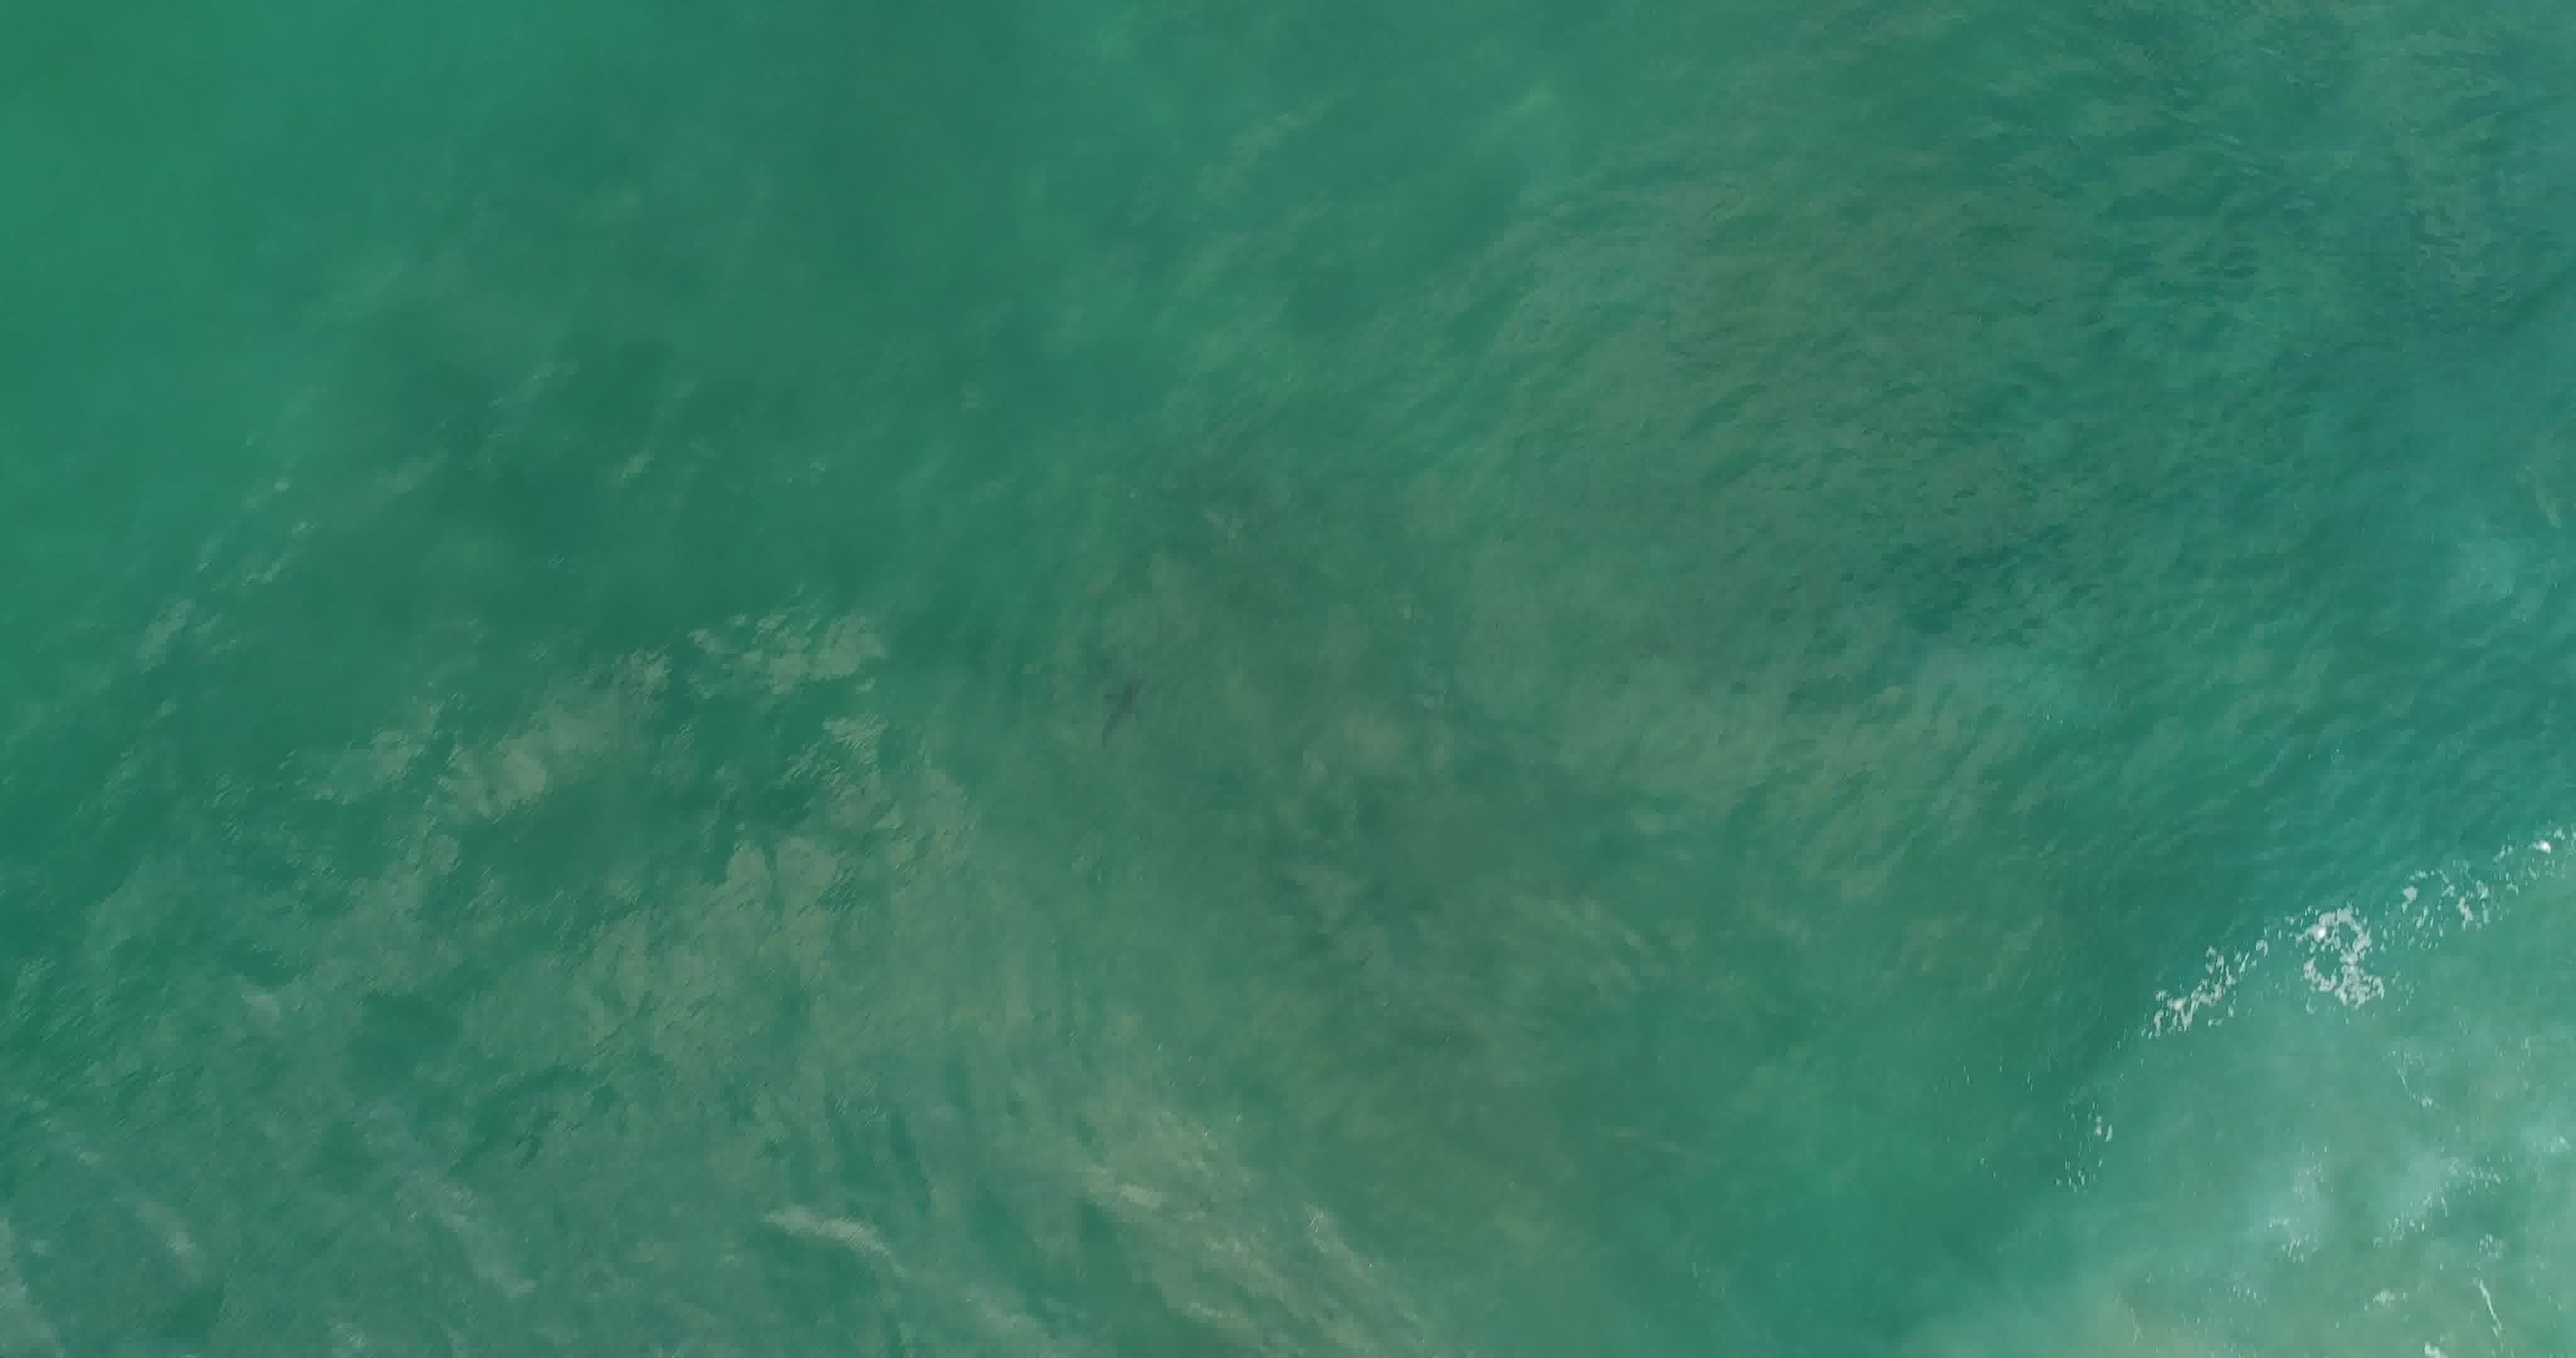shark: (1090, 675, 1152, 751)
